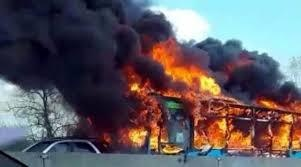fire: (114, 36, 300, 156)
